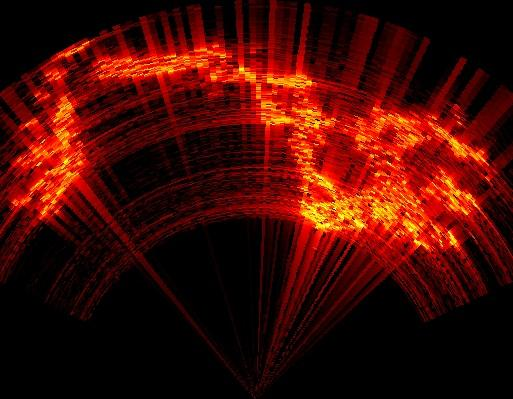shipwreck: (93, 43, 492, 247), (0, 87, 91, 231), (424, 166, 480, 215)
